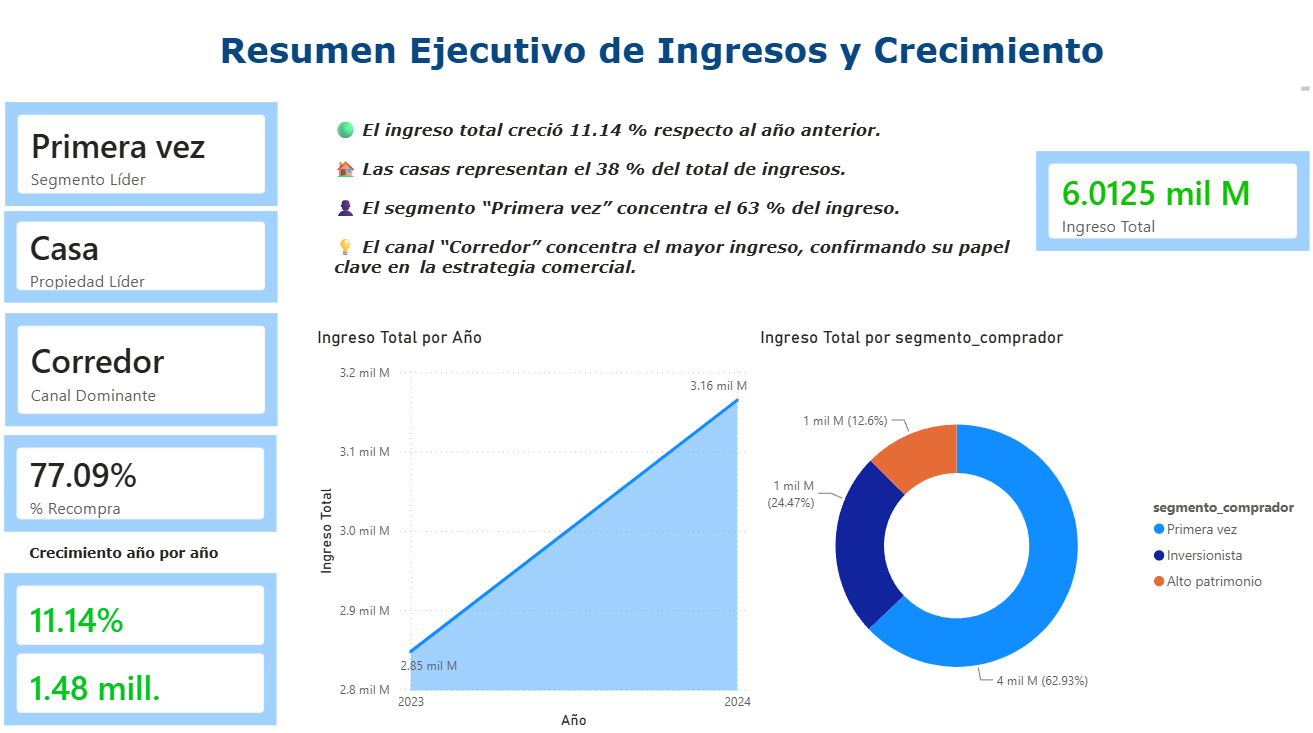

What the dashboard file says about the page in this screenshot:
{"tool":"powerbi","page":{"name":"Resumen ejecutivo","canvas":[1280,720],"ordinal":4},"visuals":[{"type":"textbox","title":"Resumen Ejecutivo de Ingresos y Crecimiento","box":[10.1,33.4,1269.9,65.7],"z":0},{"type":"cardVisual","fields":{"Data":["DIM_fecha.Ingreso Total"]},"box":[1003.6,147.8,276.2,108],"z":1000},{"type":"cardVisual","fields":{"Data":["DIM_fecha.Crecimiento YoY (%)","Sum(DIM_fecha.Año)"]},"box":[-0.4,558,275,158.7],"z":2000},{"type":"textbox","box":[-0.4,528.7,242.7,32.4],"z":3000},{"type":"cardVisual","fields":{"Data":["dim_propiedades.Propiedad Líder"]},"box":[-0.4,204,276,101.1],"z":4000},{"type":"cardVisual","fields":{"Data":["dim_clientes.Segmento Líder"]},"box":[0.6,99.8,275,111.2],"z":5000},{"type":"cardVisual","fields":{"Data":["hecho_ventas_propiedades.Canal Dominante"]},"box":[0.6,305.1,275,120.3],"z":6000},{"type":"areaChart","fields":{"Category":["DIM_fecha.Año"],"Y":["DIM_fecha.Ingreso Total"]},"box":[304.1,324.3,431.6,395.5],"z":7000},{"type":"donutChart","fields":{"Y":["DIM_fecha.Ingreso Total"],"Category":["dim_clientes.segmento_comprador"]},"box":[735.7,324.3,544.3,395.5],"z":8000},{"type":"textbox","box":[321.1,115.9,675.1,172.2],"z":9000},{"type":"cardVisual","fields":{"Data":["hecho_ventas_propiedades.% Recompra"]},"box":[0,424.2,275.3,104.2],"z":10000}]}

Visuals, with their boxes in screenshot pixels (x1, y1, x2, y2), scaled from the page's 1280x720 canvas onto the 1313x733 screenshot:
"Resumen Ejecutivo de Ingresos y Crecimiento" textbox: rect(10, 34, 1312, 101)
cardVisual - DIM_fecha.Ingreso Total: rect(1029, 150, 1312, 260)
cardVisual - DIM_fecha.Crecimiento YoY (%) x Sum(DIM_fecha.Año): rect(0, 568, 282, 730)
textbox: rect(0, 538, 249, 571)
cardVisual - dim_propiedades.Propiedad Líder: rect(0, 208, 283, 311)
cardVisual - dim_clientes.Segmento Líder: rect(1, 102, 283, 215)
cardVisual - hecho_ventas_propiedades.Canal Dominante: rect(1, 311, 283, 433)
areaChart - DIM_fecha.Año x DIM_fecha.Ingreso Total: rect(312, 330, 755, 732)
donutChart - DIM_fecha.Ingreso Total x dim_clientes.segmento_comprador: rect(755, 330, 1312, 732)
textbox: rect(329, 118, 1022, 293)
cardVisual - hecho_ventas_propiedades.% Recompra: rect(0, 432, 282, 538)
